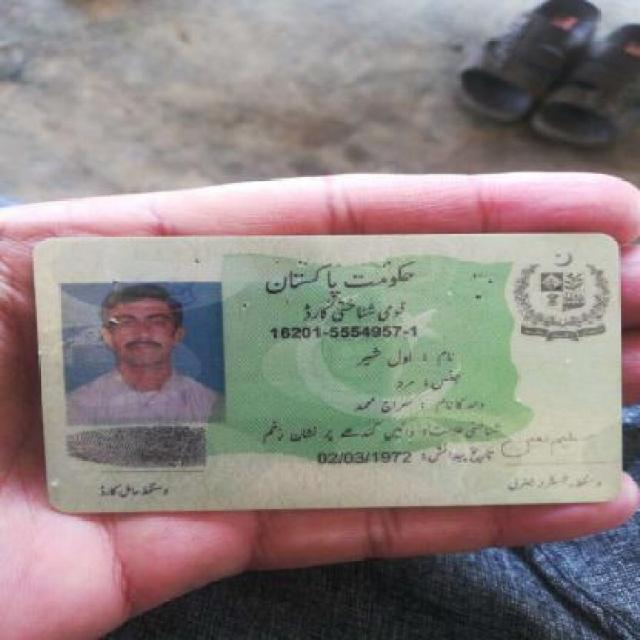Front: (30, 231, 632, 512)
